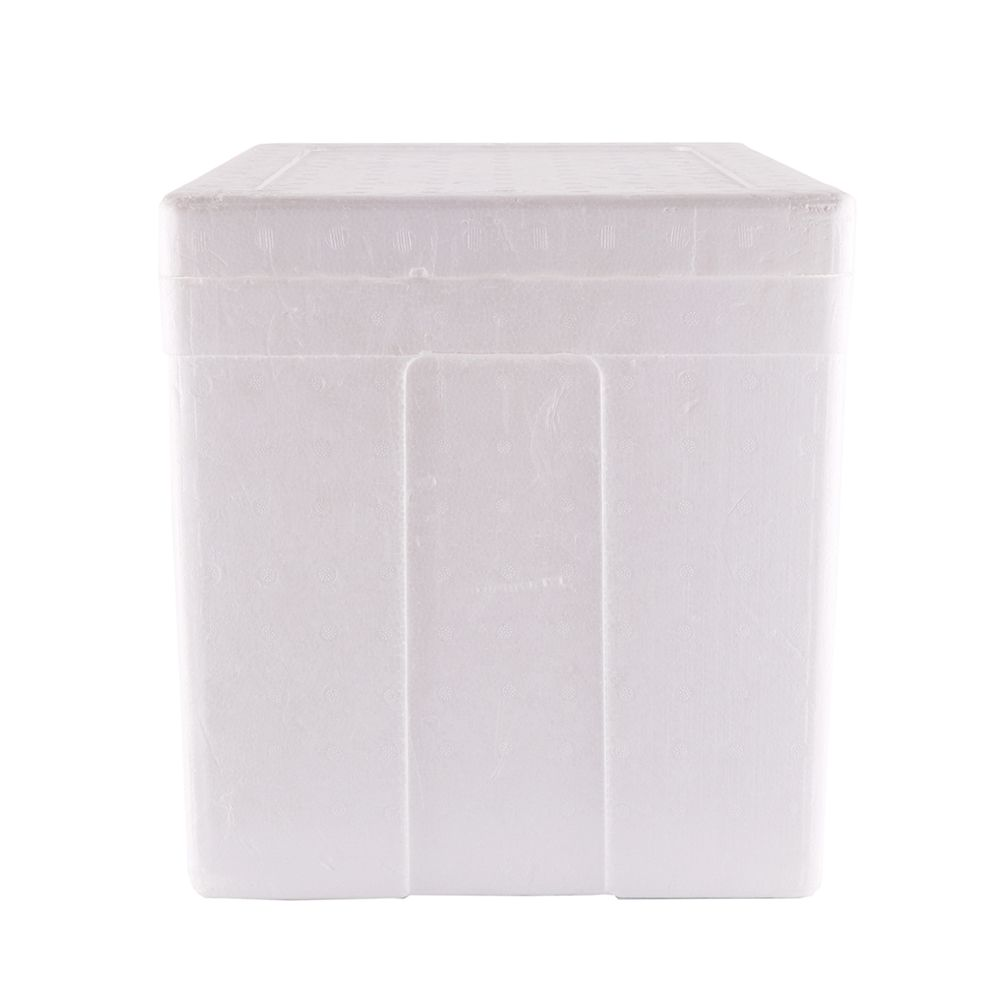Foam Box: (152, 129, 856, 909)
